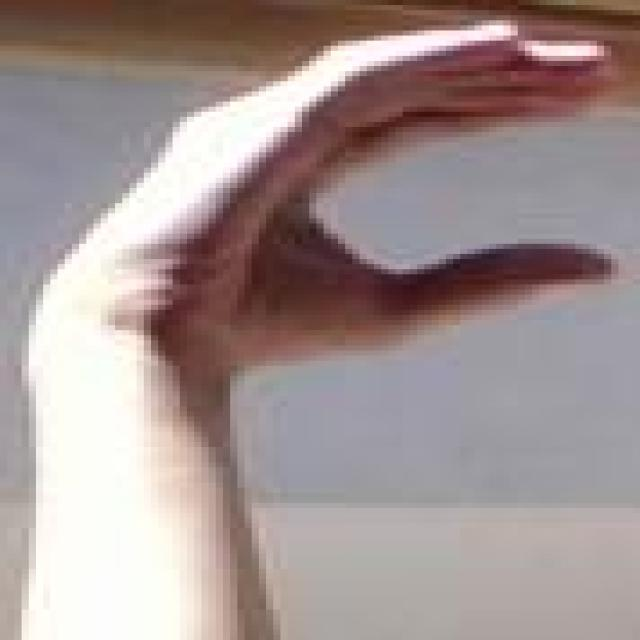C: (11, 10, 640, 388)
